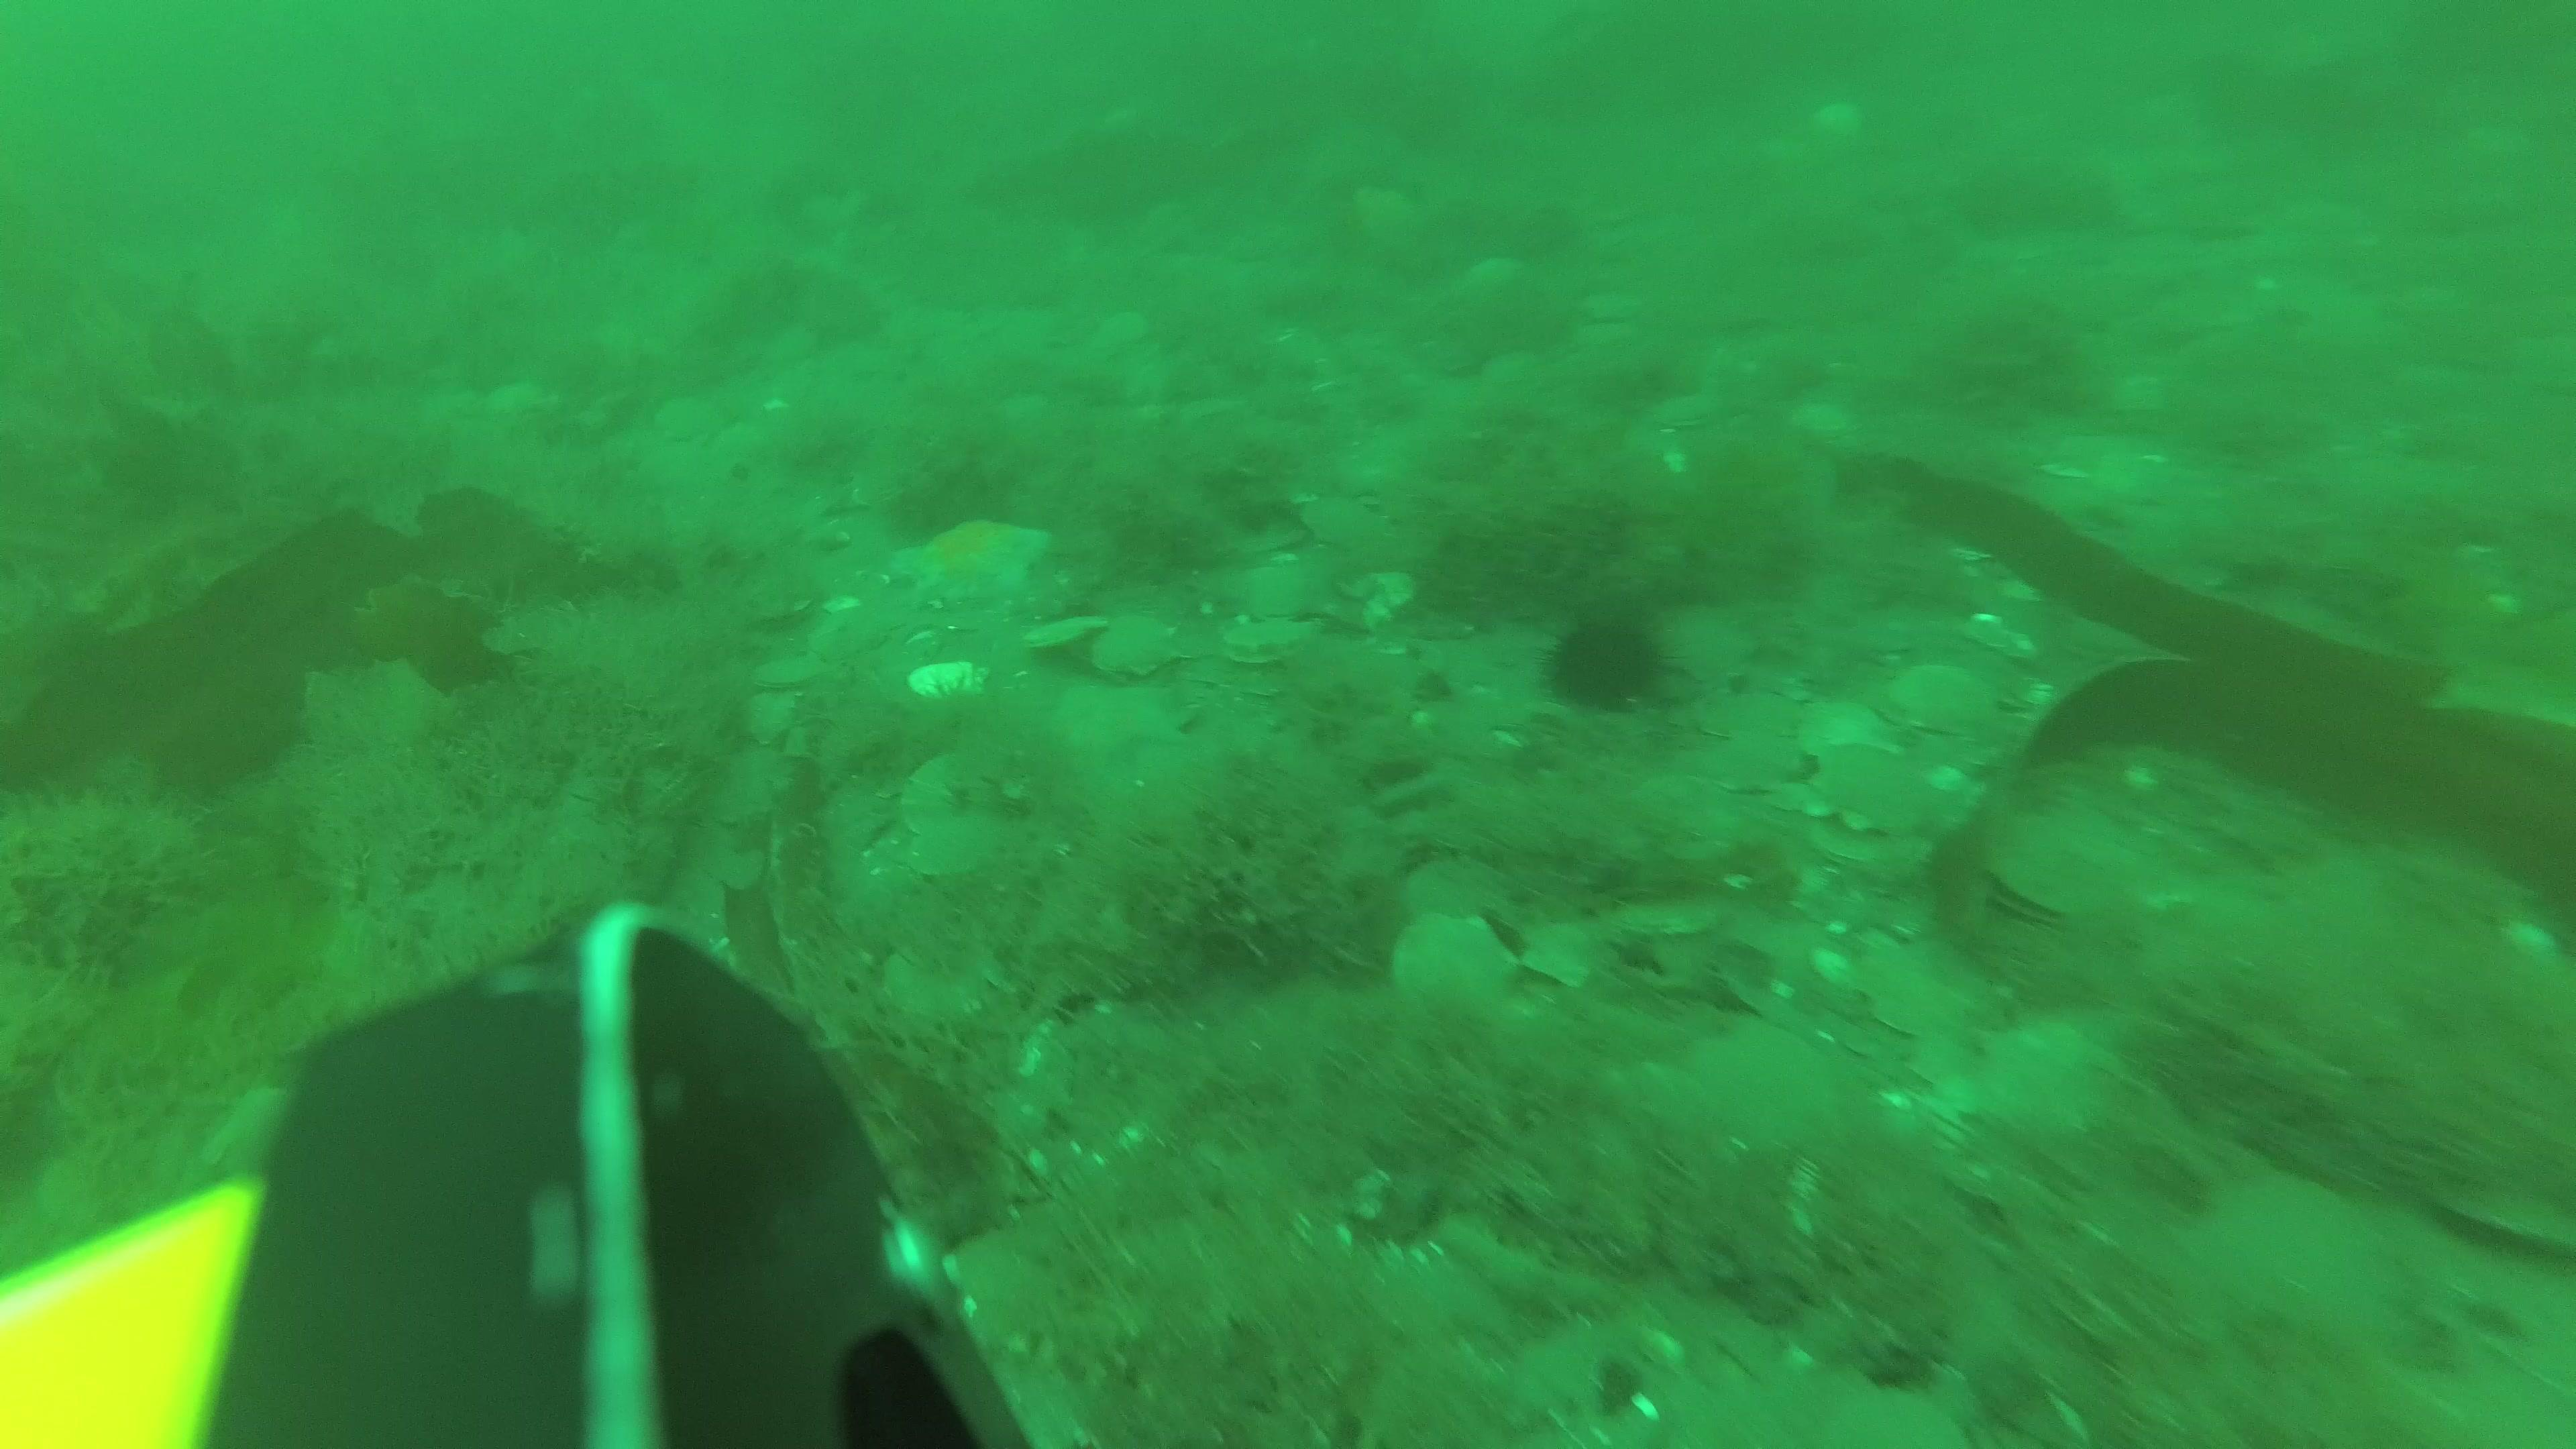echinus: (1532, 610, 1683, 718)
scallop: (1688, 1012, 1833, 1154), (1845, 927, 2013, 1046), (1976, 823, 2132, 929), (1392, 909, 1523, 1028), (872, 927, 1014, 1030), (1808, 738, 1939, 844), (1394, 851, 1509, 938), (899, 748, 1014, 832), (1891, 662, 1997, 741), (1599, 883, 1737, 943), (1798, 697, 1905, 768), (1522, 918, 1619, 994), (904, 816, 1016, 878), (1230, 556, 1327, 625), (1295, 494, 1399, 556), (1088, 610, 1182, 678), (1327, 568, 1417, 635), (1702, 685, 1812, 738), (1219, 612, 1323, 667), (642, 393, 732, 448), (904, 656, 996, 706), (1021, 610, 1109, 656), (731, 690, 798, 747), (1651, 387, 1721, 441), (748, 655, 830, 694)
starfish: (885, 515, 1058, 610), (1062, 674, 1196, 764)
